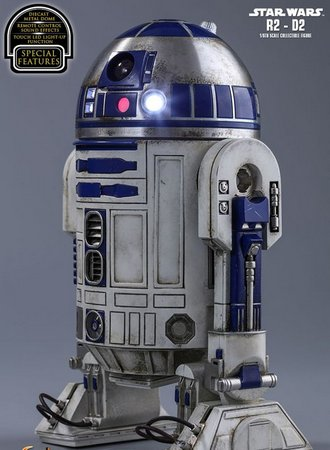r2d2: (38, 19, 314, 449)
